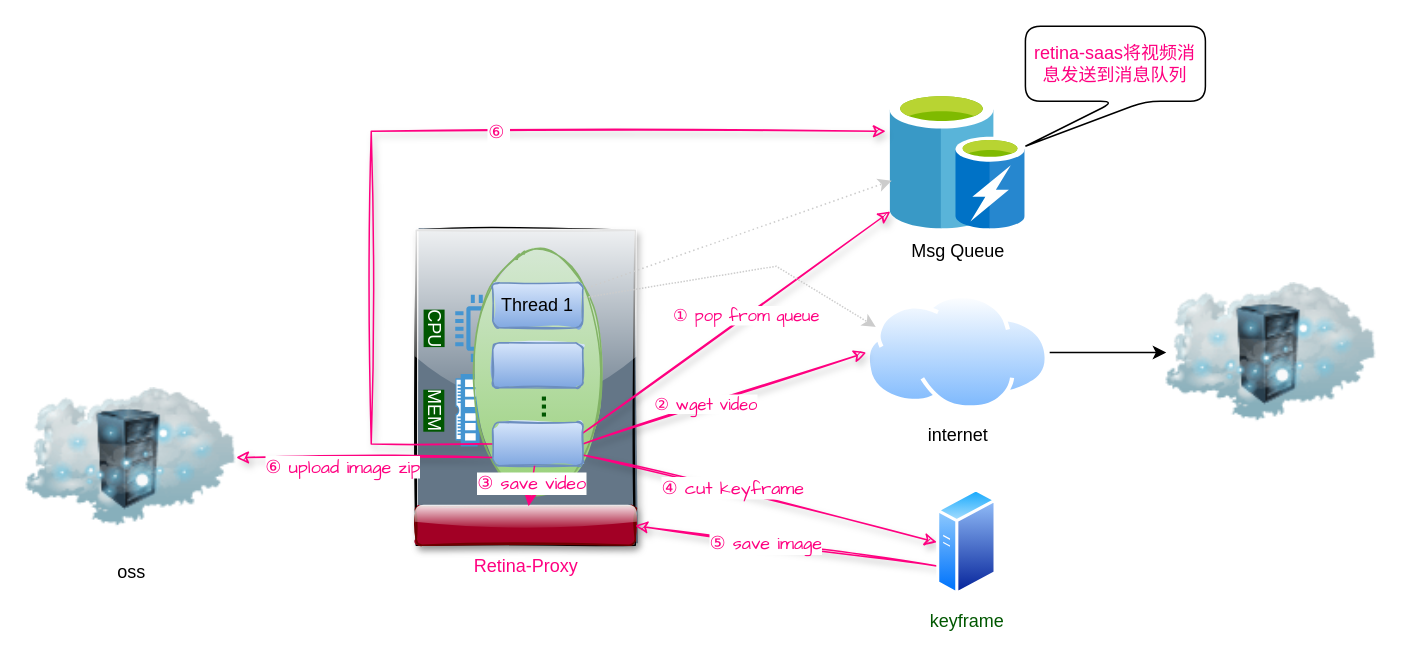
The diagram is 1401 pixels wide and 659 high, and some of its shapes have lost their labels. Each missing label, with the centre of its shape:
"SSD" goes at pixel 526 527.
"Thread 2" goes at pixel 537 364.
"Thread n" goes at pixel 537 443.
"video server" goes at pixel 1271 352.
